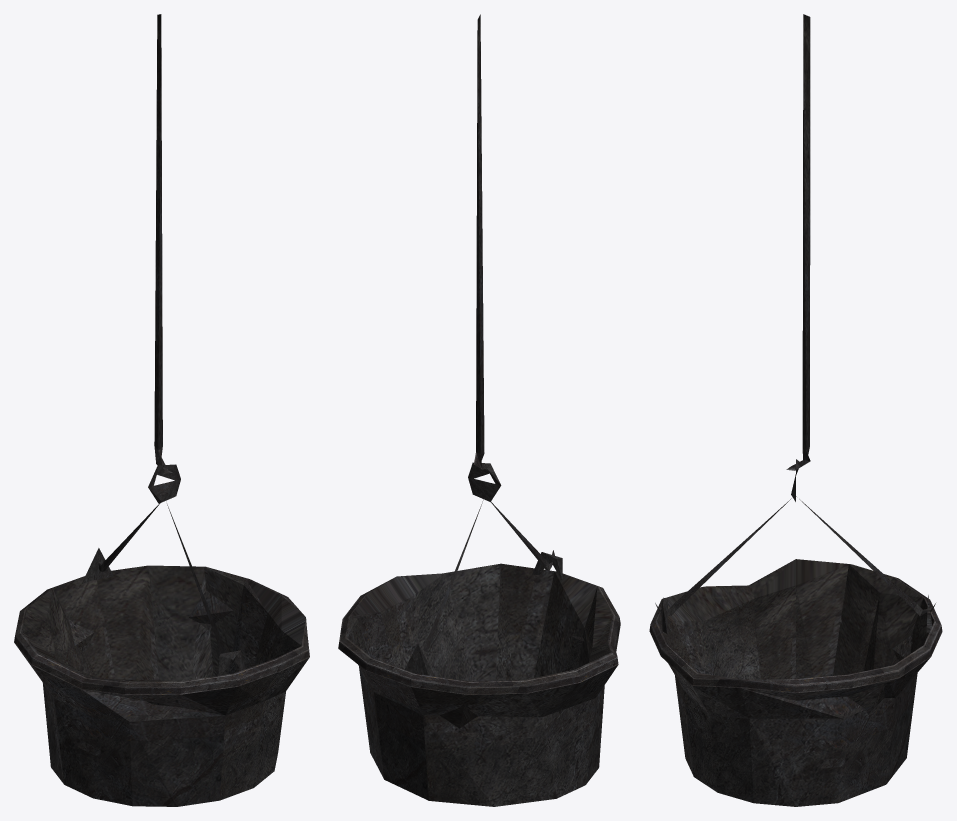
Rendered from tavern_cooker2_LOD.dae.
The picture shows the model from 3 angles, left to right: view 1: azimuth 30°, elevation 25°; view 2: azimuth 150°, elevation 25°; view 3: azimuth 270°, elevation 25°; orthographic projection.
Visible parts, largest first — view 1: Default_Layer; view 2: Default_Layer; view 3: Default_Layer.
Boxes of the visible parts, x1,y1,x2,y2 form: Default_Layer: (14,14,309,806); Default_Layer: (338,14,620,806); Default_Layer: (649,14,942,806).
Size of the model in its own units: 3.96 by 11.34 by 3.9.
